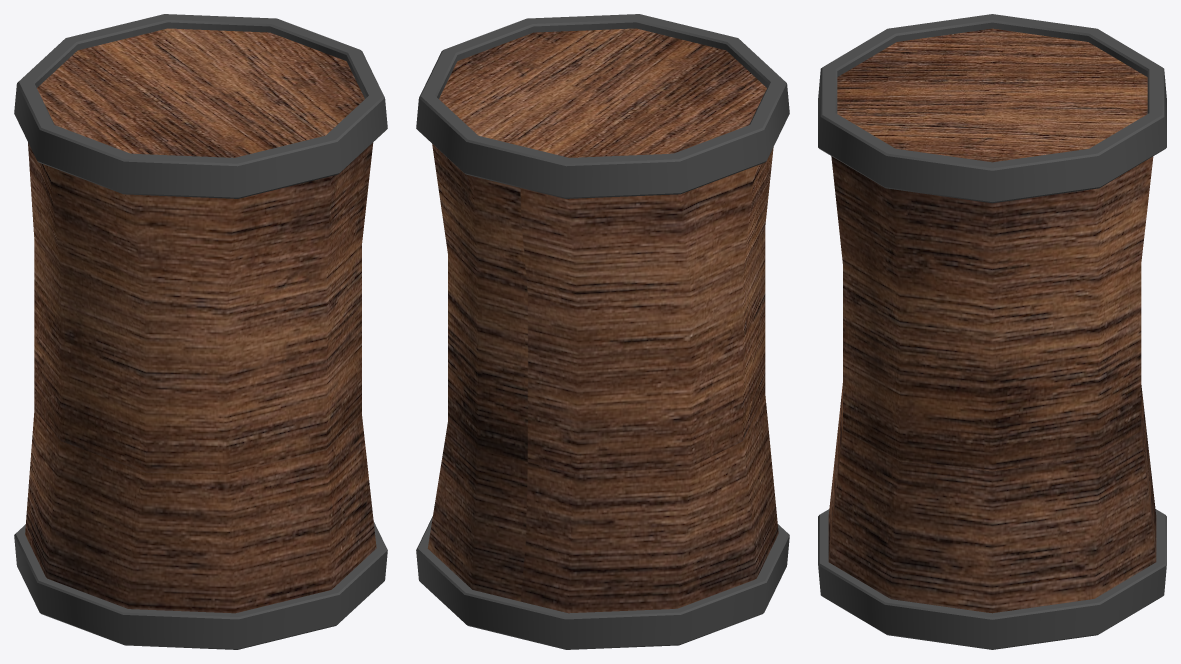
File: Barril.FBX
3 renders of one model, left to right at view 1: azimuth 30°, elevation 25°; view 2: azimuth 150°, elevation 25°; view 3: azimuth 270°, elevation 25°, orthographic.
Parts seen in each view (by area): view 1: Barrel; view 2: Barrel; view 3: Barrel.
Boxes of the visible parts, x1=… form: Barrel: x1=14, y1=14, x2=387, y2=649; Barrel: x1=416, y1=14, x2=789, y2=649; Barrel: x1=818, y1=14, x2=1166, y2=649.
Bounding box in the file's own units: 11.58 × 16.43 × 10.79.
